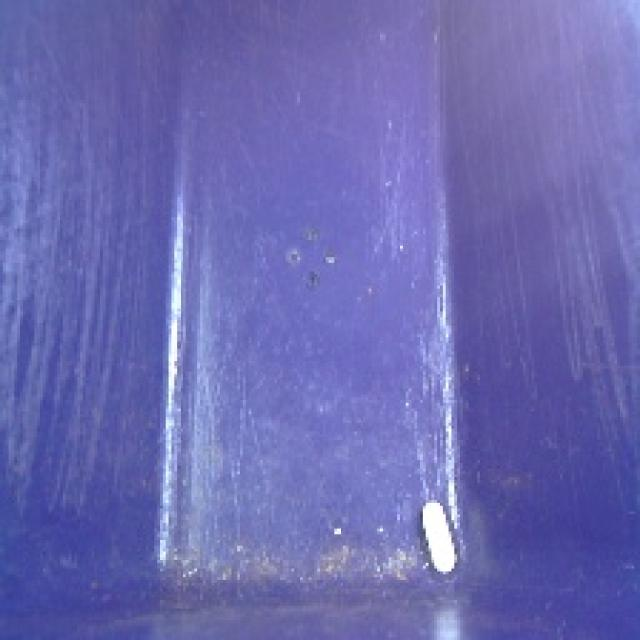small: (414, 493, 466, 577)
